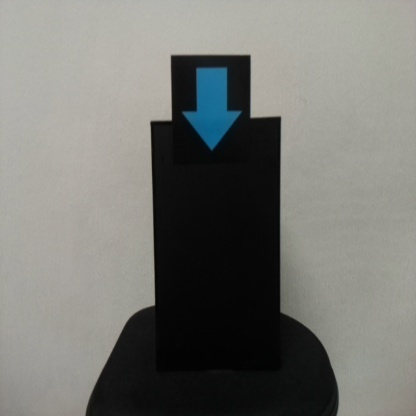id_2: (171, 56, 251, 161)
